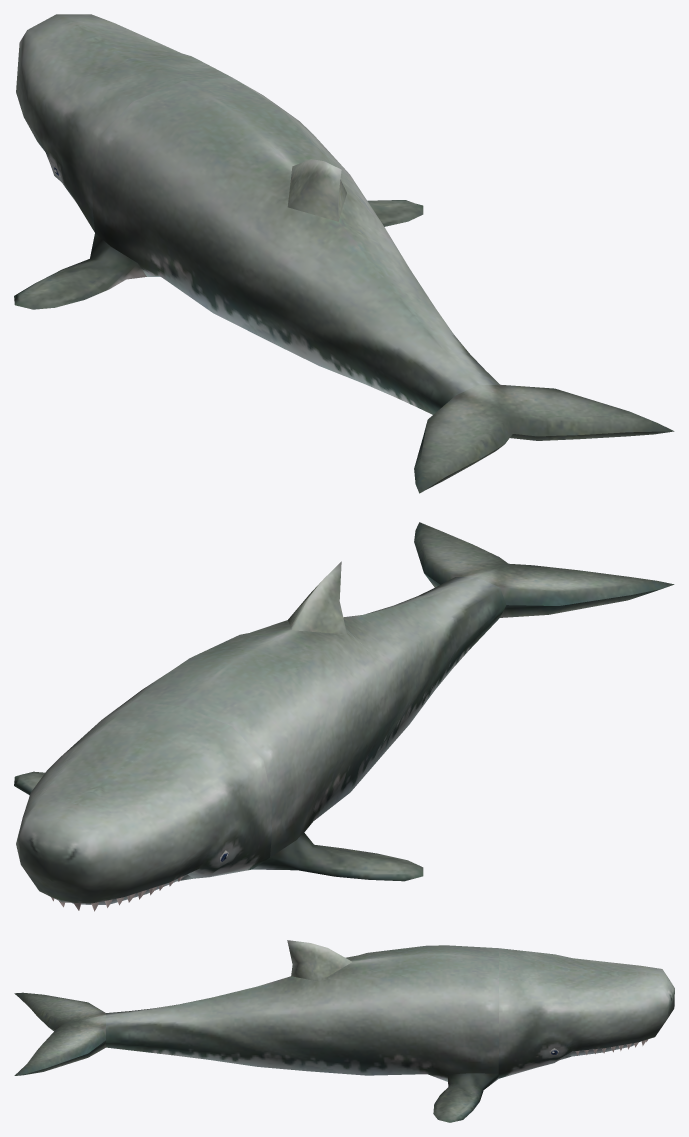
File: leviathan_park_adult.obj
The picture shows the model from 3 angles, top to bottom: view 1: azimuth 30°, elevation 25°; view 2: azimuth 150°, elevation 25°; view 3: azimuth 270°, elevation 25°; orthographic projection. The views are drawn at different scales.
Visible parts, largest first — view 1: leviathan_ad; view 2: leviathan_ad; view 3: leviathan_ad.
Boxes of the visible parts, x1,y1,x2,y2 form: leviathan_ad: [14, 14, 674, 493]; leviathan_ad: [14, 522, 674, 911]; leviathan_ad: [14, 940, 674, 1122].
Bounding box in the file's own units: 181 × 79.85 × 383.
Materials: 1 (1 with a texture image).
